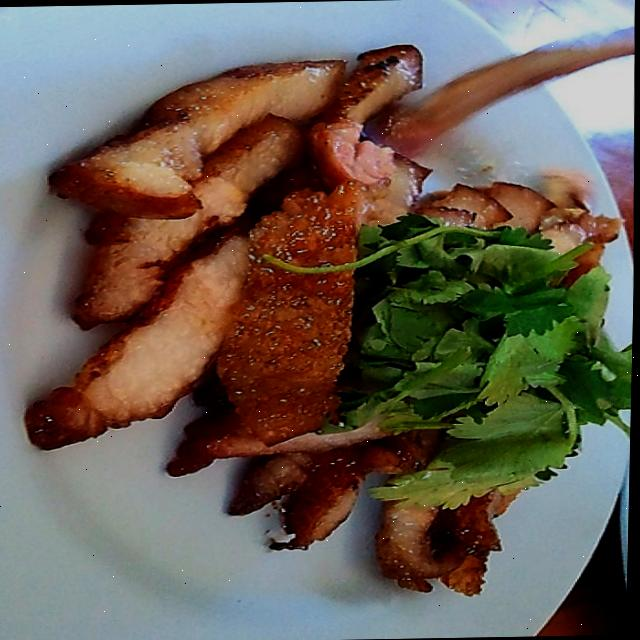猪肉菜式: (30, 13, 640, 606)
